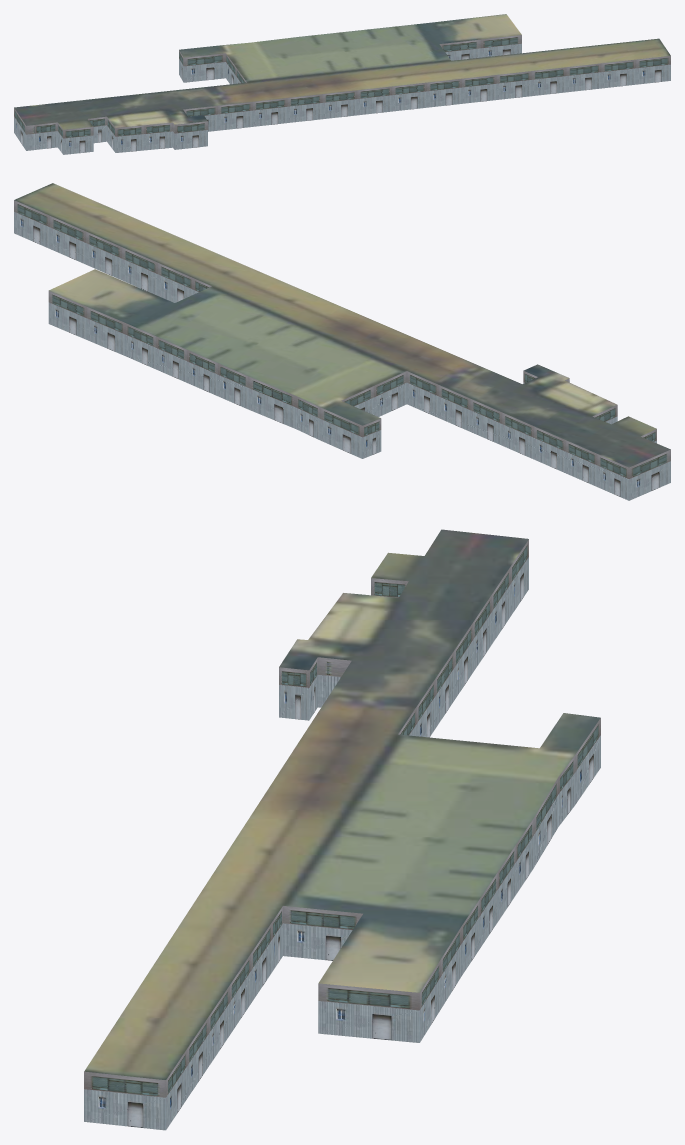
The picture shows the model from 3 angles, top to bottom: view 1: azimuth 30°, elevation 25°; view 2: azimuth 150°, elevation 25°; view 3: azimuth 270°, elevation 25°; orthographic projection. The views are drawn at different scales.
Visible parts, largest first — view 1: SketchUp (×3); view 2: SketchUp (×3); view 3: SketchUp (×3).
Boxes of the visible parts, bbox=[...] form: SketchUp (×3): bbox=[14, 14, 670, 154]; SketchUp (×3): bbox=[14, 183, 670, 500]; SketchUp (×3): bbox=[84, 529, 600, 1130].
Size of the model in its own units: 4700 by 1864 by 200.
Materials: 3 (3 with a texture image).
